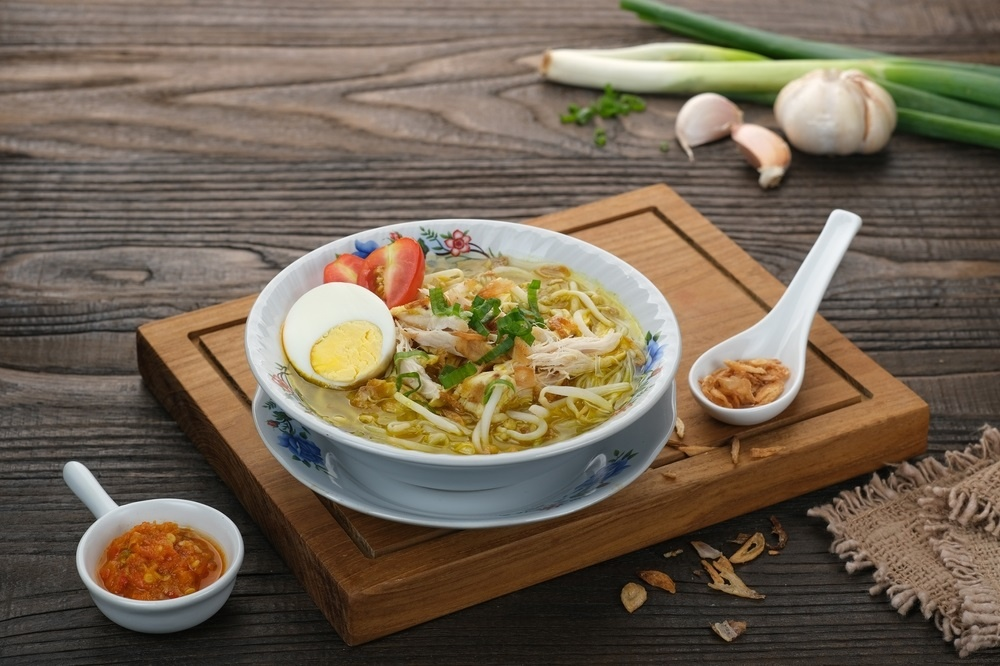soto: (239, 207, 711, 530)
